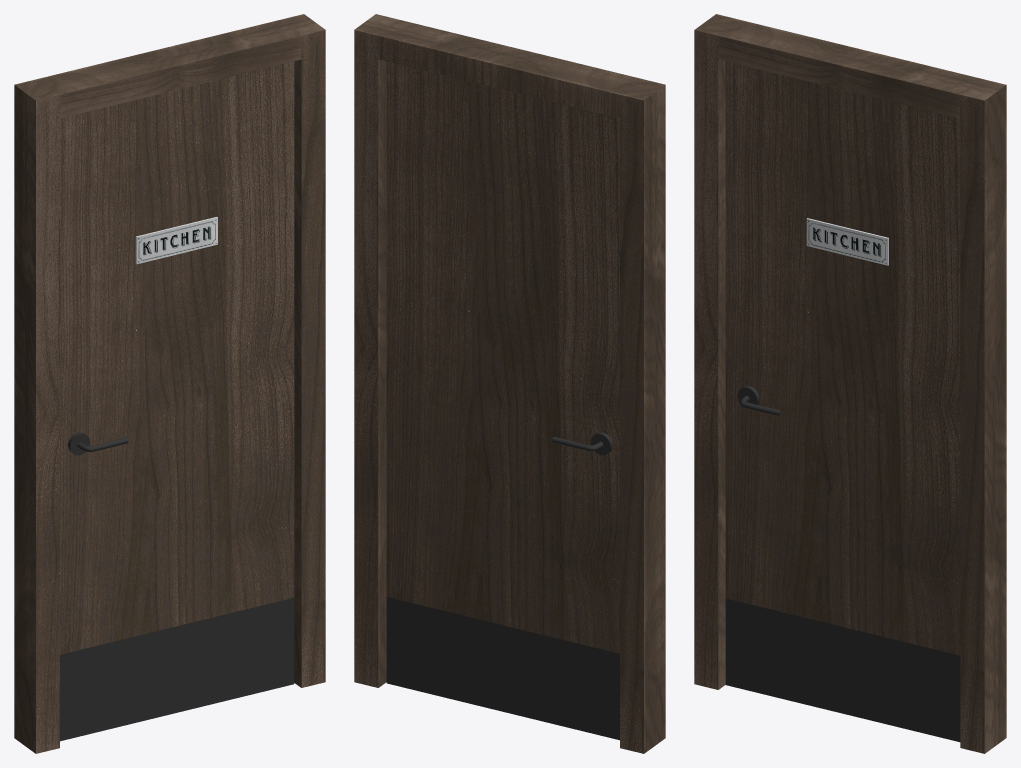
Rendered from Door 2.FBX.
The picture shows the model from 3 angles, left to right: view 1: azimuth 30°, elevation 25°; view 2: azimuth 150°, elevation 25°; view 3: azimuth 330°, elevation 25°; orthographic projection.
Visible parts, largest first — view 1: Door, door frame, poster; view 2: Door, door frame; view 3: Door, door frame, poster.
Boxes of the visible parts, box(x1,y1,x2,y2) form: Door: box(60, 61, 294, 741); door frame: box(14, 14, 325, 753); poster: box(135, 217, 217, 264); Door: box(386, 61, 619, 740); door frame: box(354, 14, 665, 753); Door: box(725, 61, 960, 742); door frame: box(694, 14, 1006, 753); poster: box(806, 218, 888, 265).
Size of the model in its own units: 101 by 217 by 17.52.
Materials: 3 (2 with a texture image).
